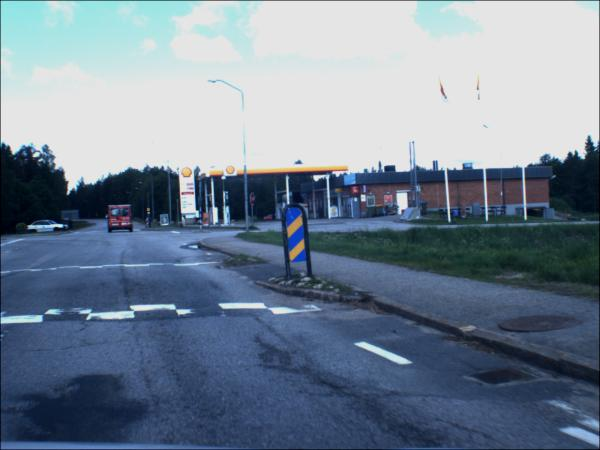50_SIGN: (148, 209, 152, 213)
PRIORITY_ROAD: (149, 213, 152, 216)
STOP: (252, 194, 257, 206)
